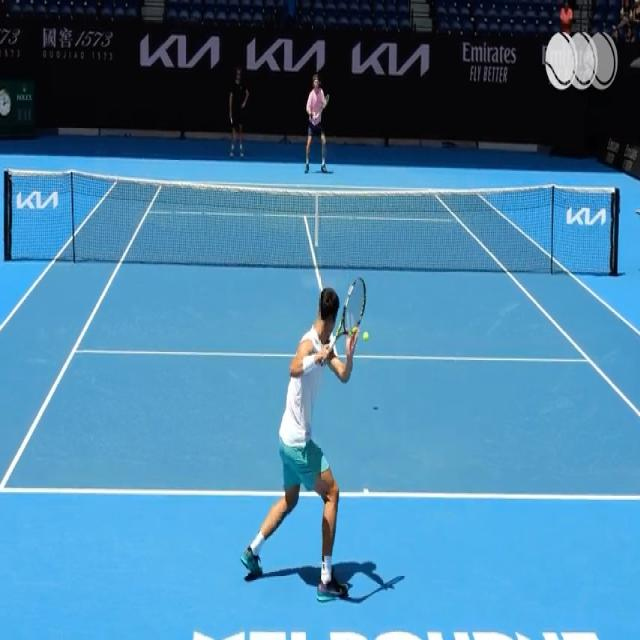forehand-ready: (248, 278, 365, 595)
